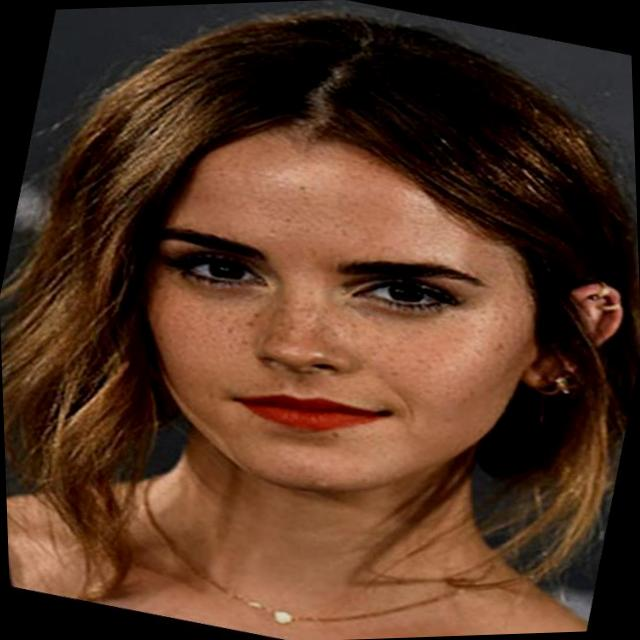freckle: (152, 259, 520, 410)
